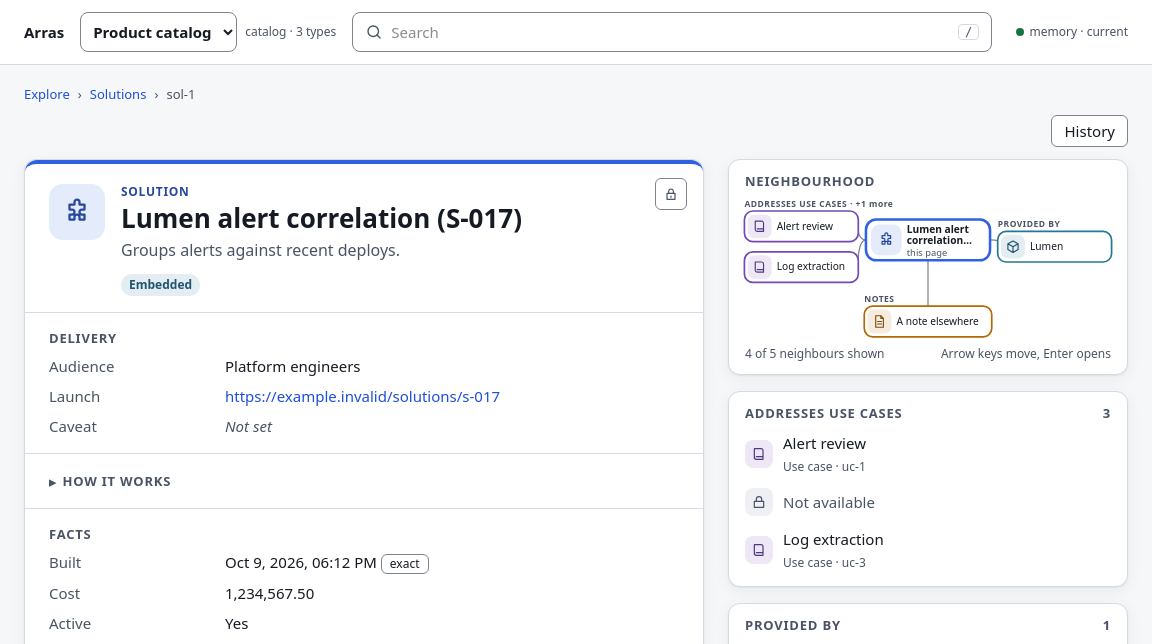
Test case: Retire on a node page (FR-68) › never names the key of an entity the viewer cannot read
Click the button named "Edit mode" at (671, 194), box [655, 178, 687, 210]
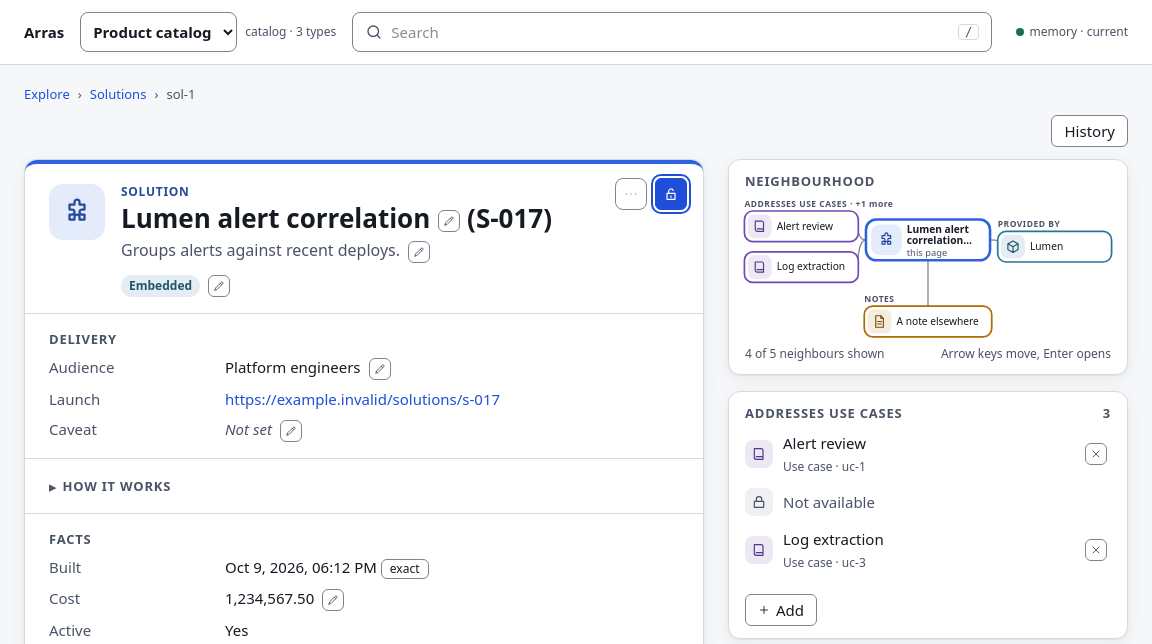
Click the button named "Entity menu" at (631, 194), box [615, 178, 647, 210]
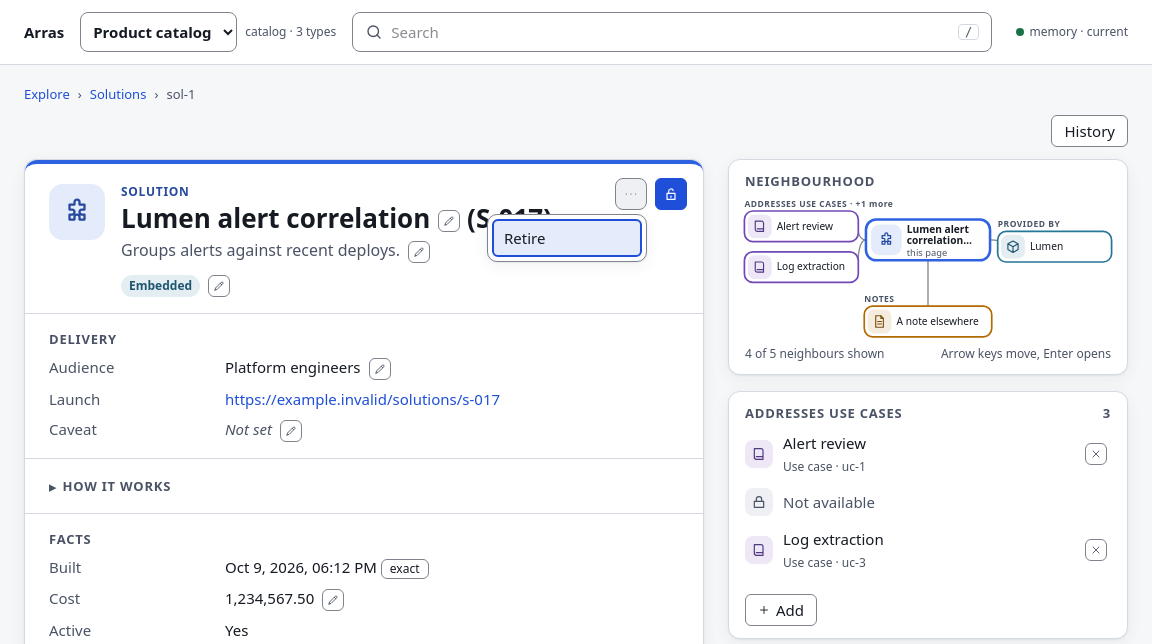
Click the menu item "Retire" at (567, 238), box [492, 219, 642, 257]
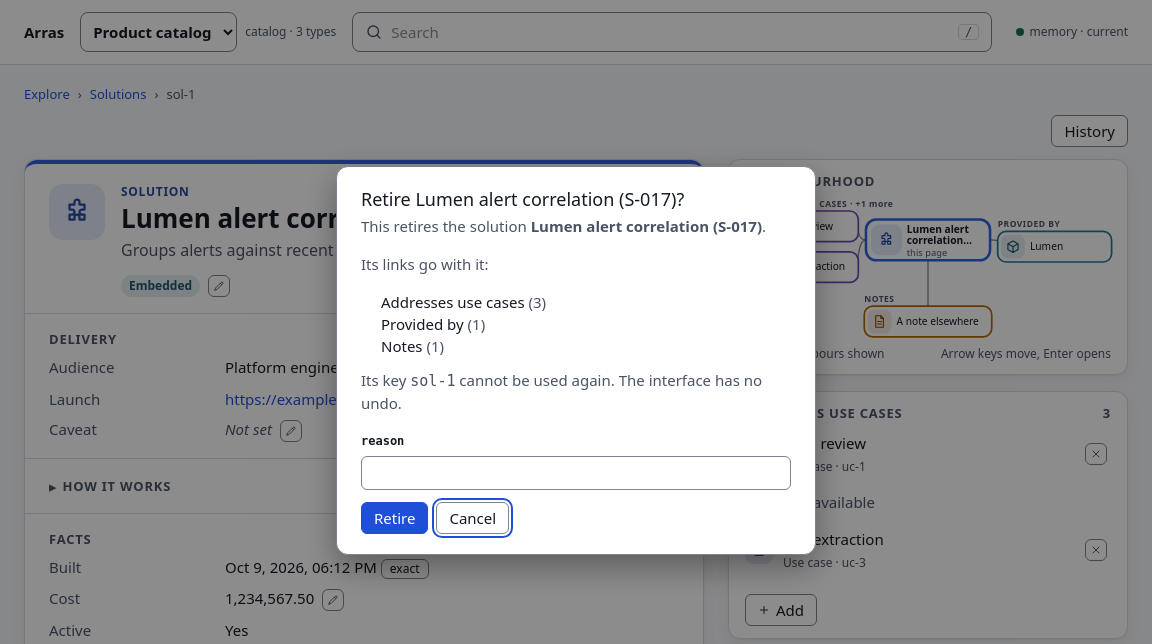
Expected: the text "uc-1" is shown, [783, 458, 866, 475]
Expected: the list with test id "retire-groups" shows "Addresses use cases (3)", [381, 292, 546, 356]
